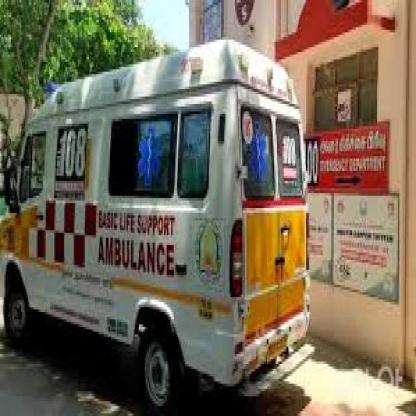priority: (1, 38, 313, 410)
